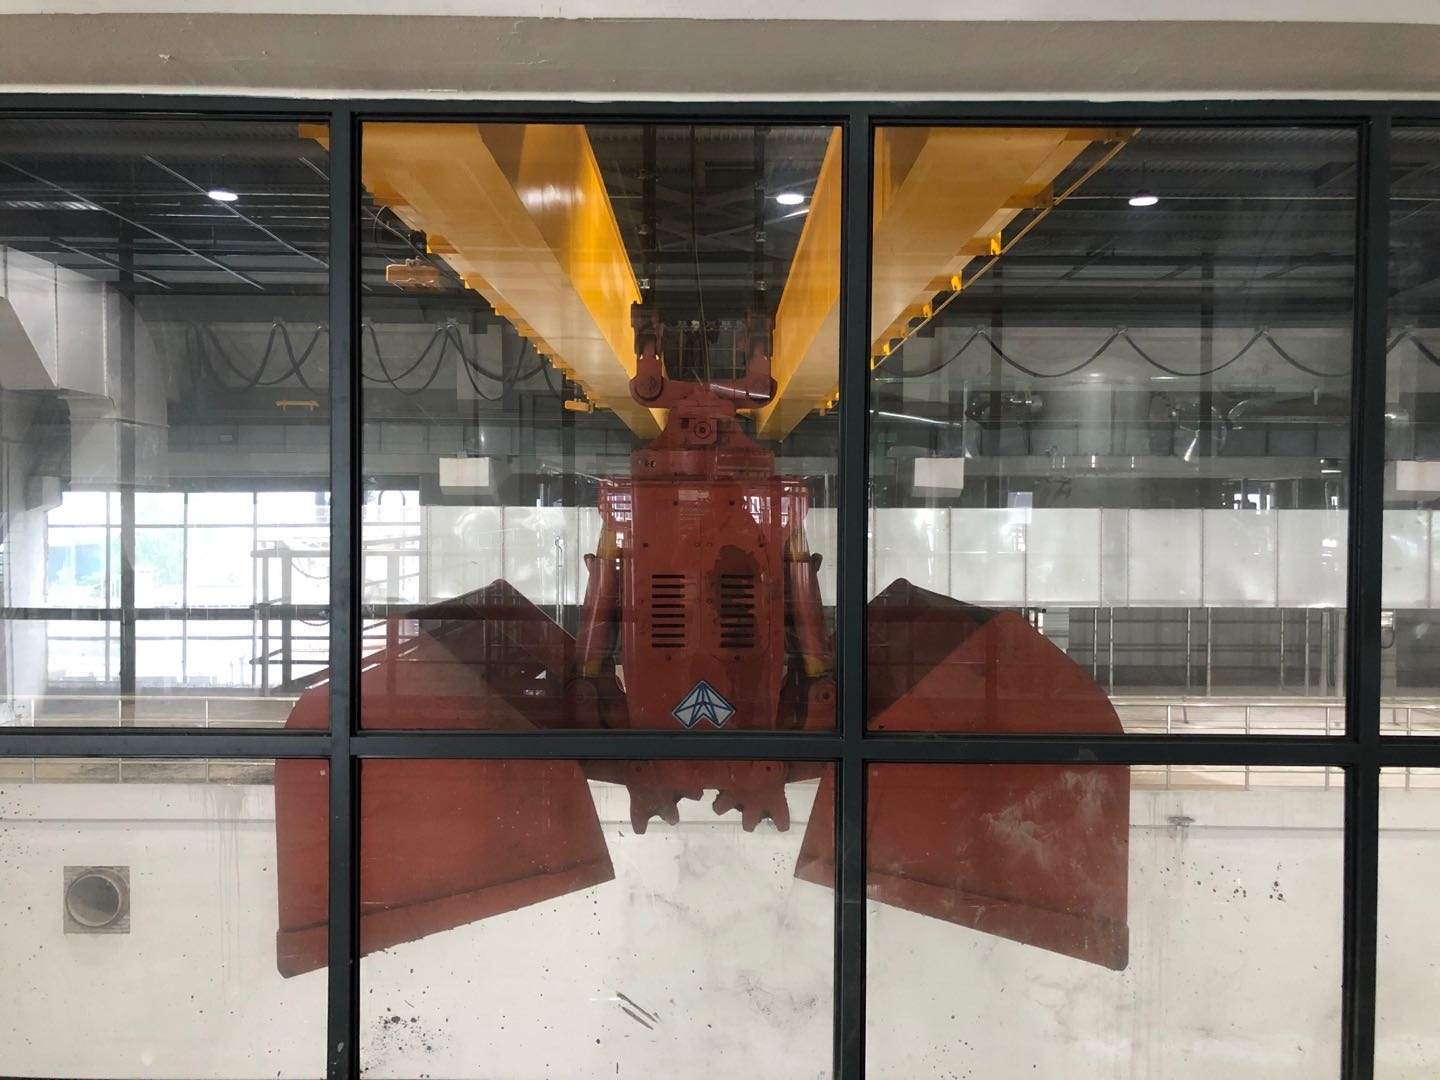grab: (260, 351, 1159, 1018)
